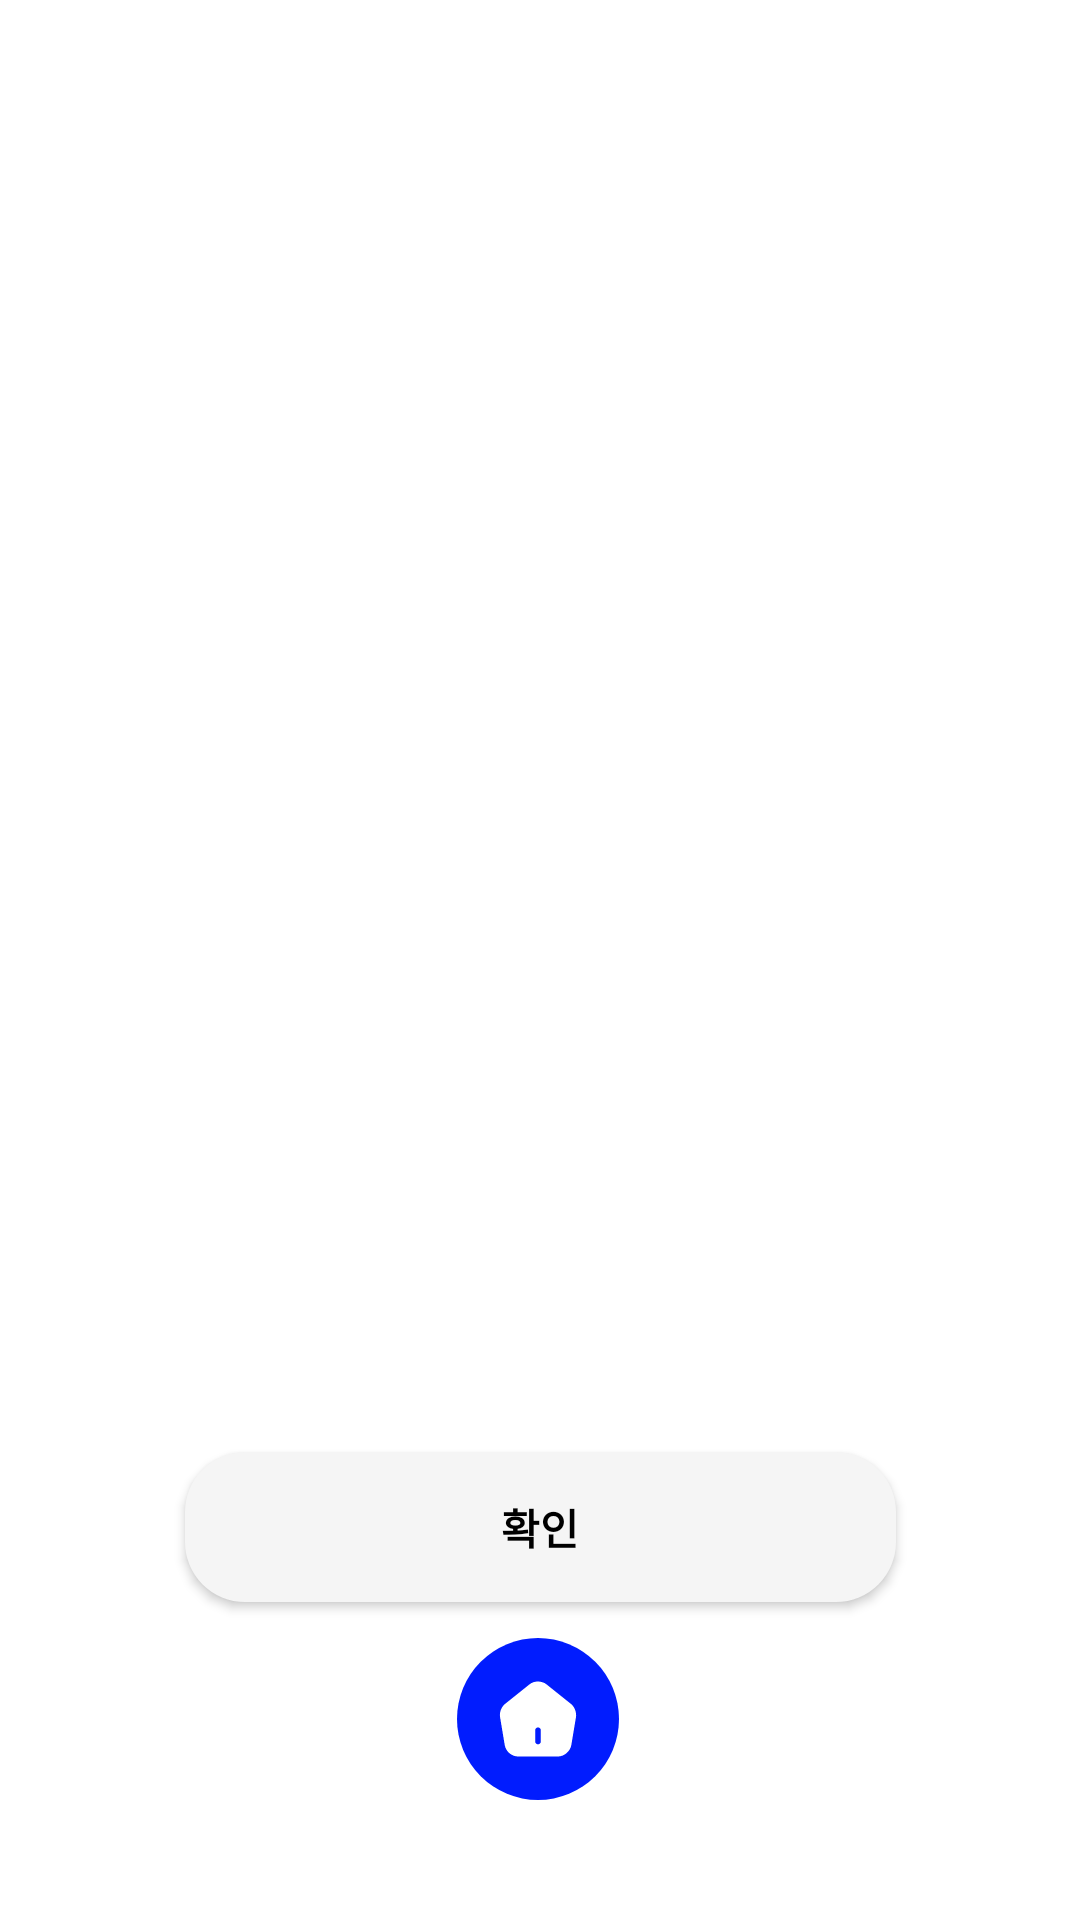

Icons on this 1080x1920 Android screen, each with its box as box(x1, y1, x2, y2):
home: box(457, 1638, 619, 1800)
